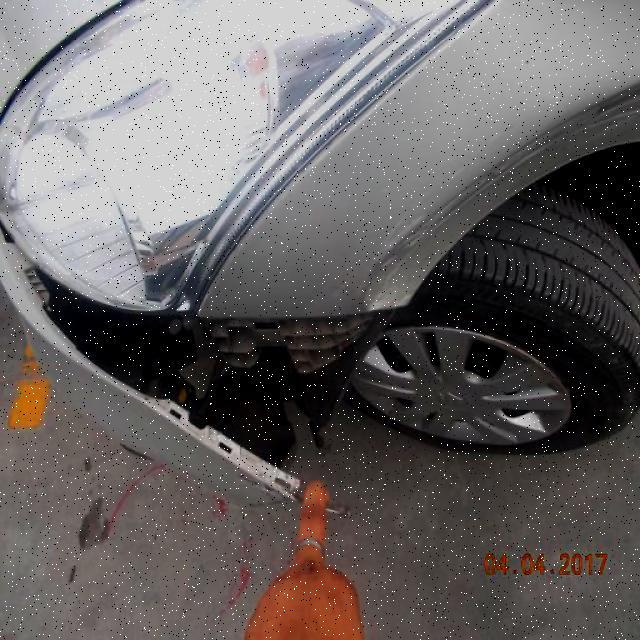car damage: (1, 226, 405, 515)
